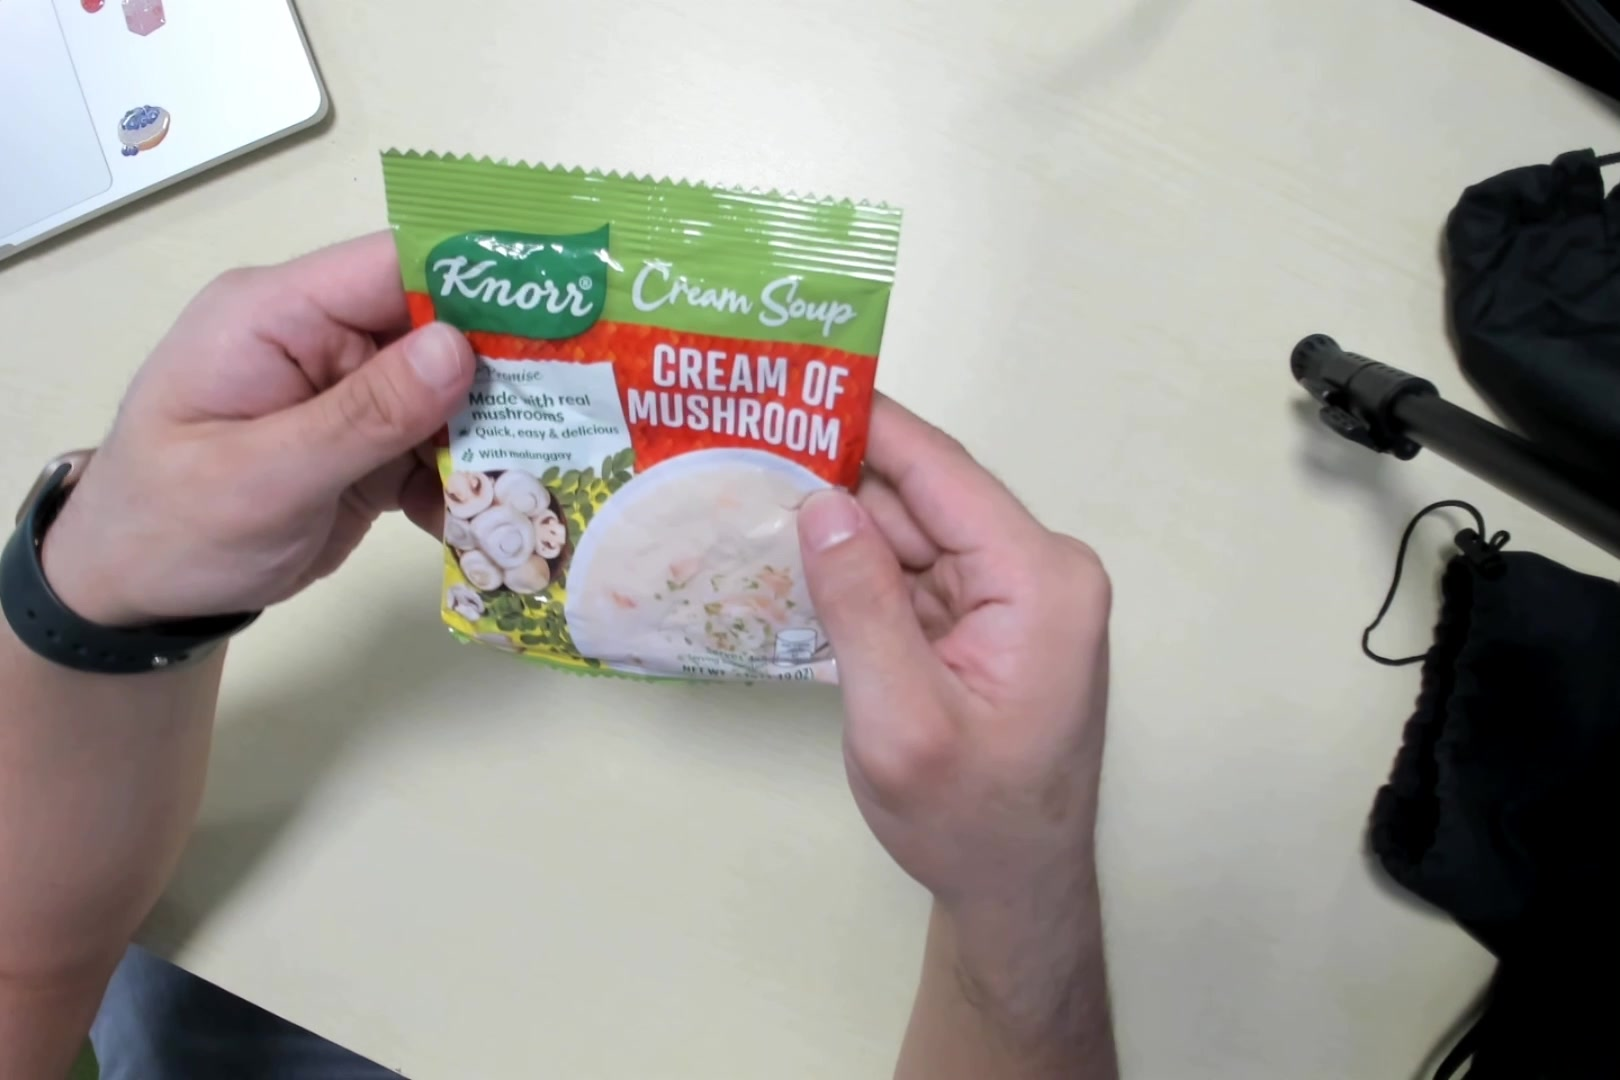OtherBakingNeeds_0-99g_NonHalal_NonHealthy: (388, 149, 887, 691)
